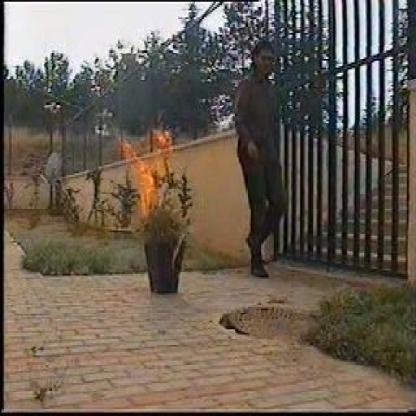foggia-v2-map80-epoch100 - v1 4323: (114, 132, 176, 206)
